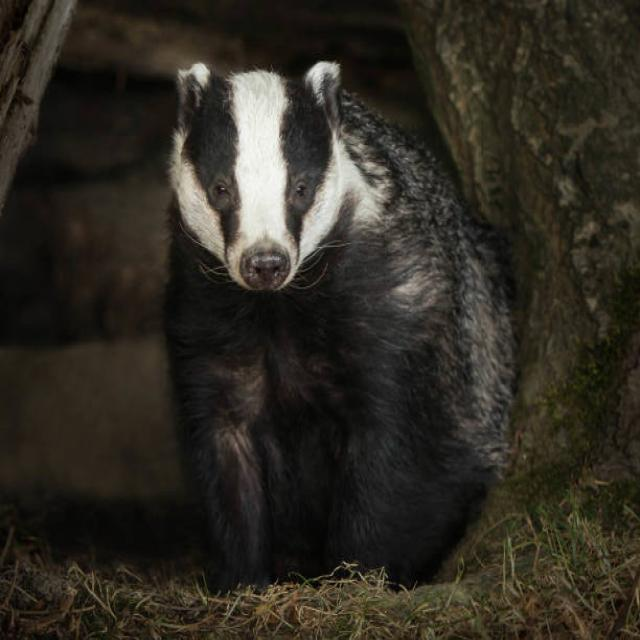Badger: (168, 59, 502, 588)
